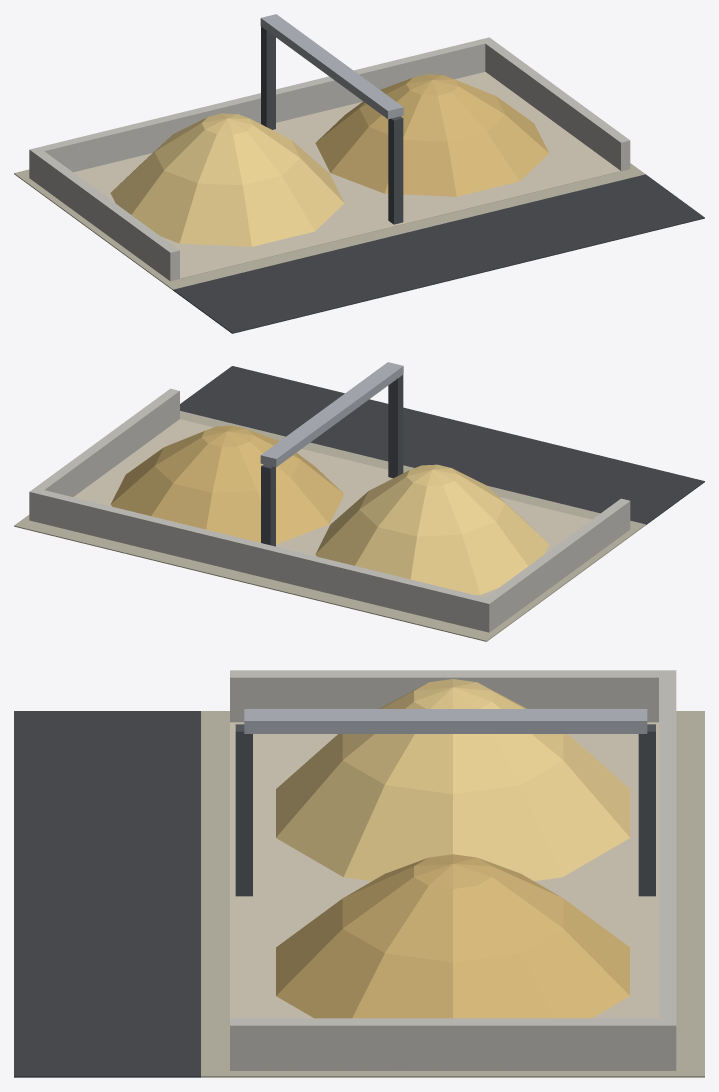
File: site_heap_sand.glb
The picture shows the model from 3 angles, top to bottom: view 1: azimuth 30°, elevation 25°; view 2: azimuth 150°, elevation 25°; view 3: azimuth 270°, elevation 25°; orthographic projection. The views are drawn at different scales.
Parts seen in each view (by area): view 1: site_heap_sand; view 2: site_heap_sand; view 3: site_heap_sand.
Part boxes in pixels (bbox=[...]): site_heap_sand: bbox=[14, 14, 704, 333]; site_heap_sand: bbox=[14, 362, 704, 641]; site_heap_sand: bbox=[14, 670, 704, 1077].
Size of the model in its own units: 30 by 6.9 by 24.
